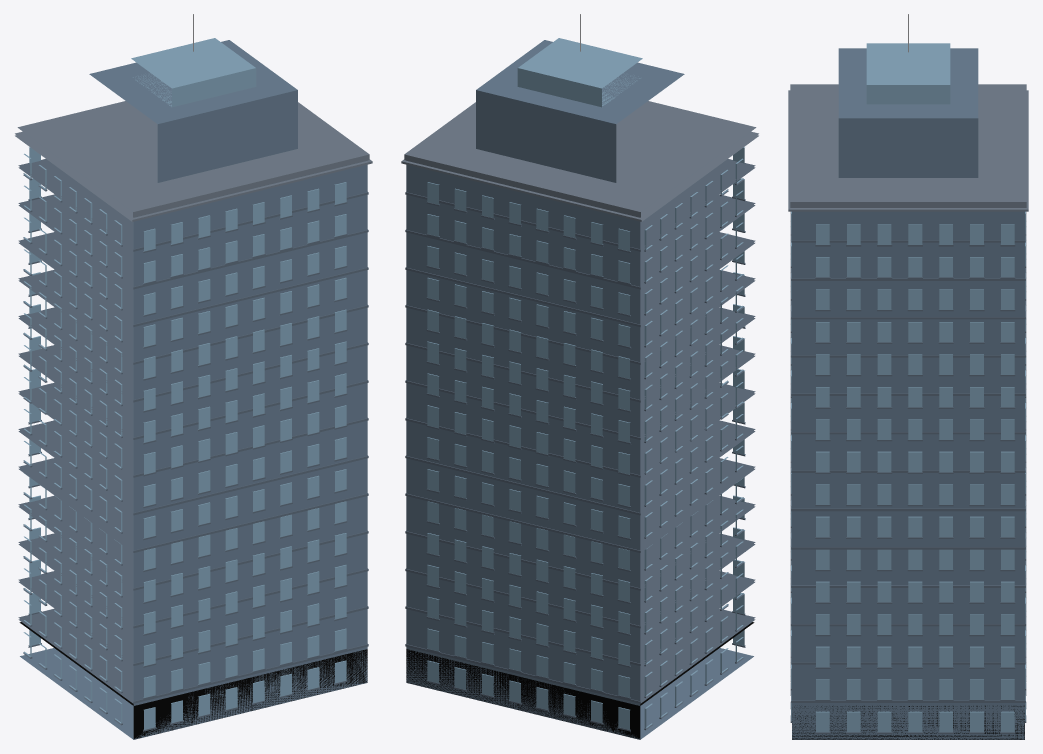
Rendered from office_glass_spire.glb.
The picture shows the model from 3 angles, left to right: view 1: azimuth 30°, elevation 25°; view 2: azimuth 150°, elevation 25°; view 3: azimuth 270°, elevation 25°; orthographic projection.
Parts seen in each view (by area): view 1: office_glass_spire; view 2: office_glass_spire; view 3: office_glass_spire.
Part boxes in pixels (bbox=[...]): office_glass_spire: bbox=[15, 14, 372, 739]; office_glass_spire: bbox=[401, 14, 758, 739]; office_glass_spire: bbox=[788, 14, 1028, 739].
Bounding box in the file's own units: 26.7 × 69.6 × 22.7.
